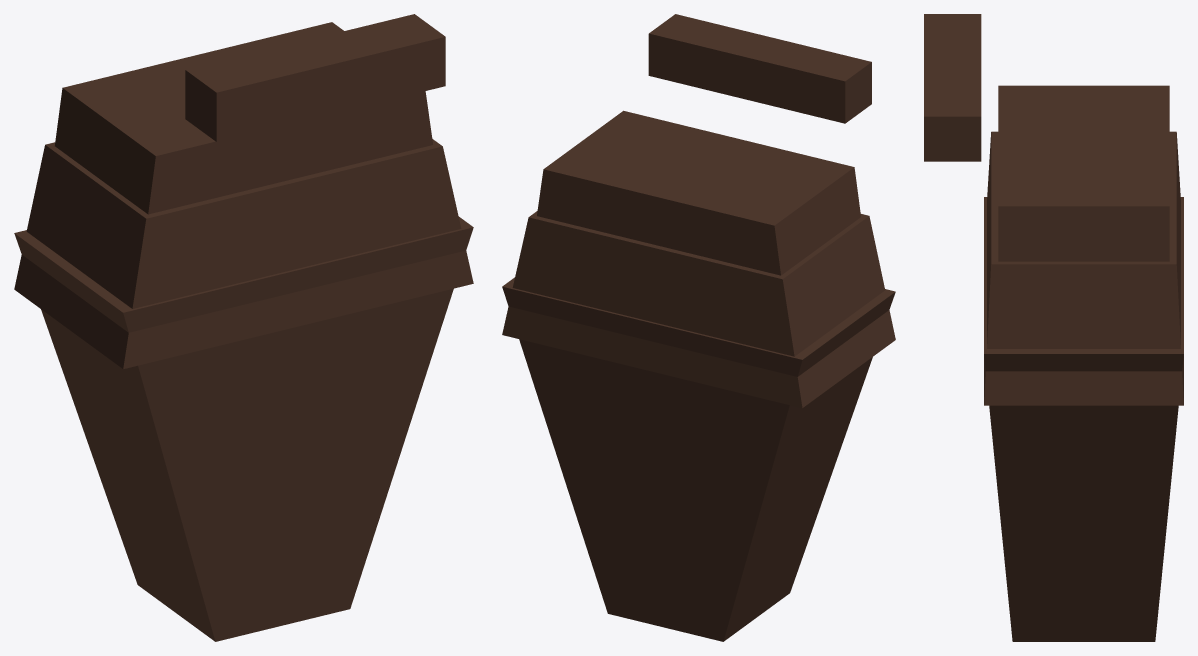
The model's file is NPC_Beard.obj.
3 views of the same model, side by side, from view 1: azimuth 30°, elevation 25°; view 2: azimuth 150°, elevation 25°; view 3: azimuth 270°, elevation 25° (orthographic). The views are drawn at different scales.
Visible parts, largest first — view 1: NPC_Beard_Long, NPC_Beard_Short; view 2: NPC_Beard_Long, NPC_Beard_Short; view 3: NPC_Beard_Long, NPC_Beard_Short.
Part boxes in pixels (x1,y1,x2,y2): NPC_Beard_Long: (14,139,473,641); NPC_Beard_Short: (55,14,445,214); NPC_Beard_Long: (502,211,895,641); NPC_Beard_Short: (537,14,871,275); NPC_Beard_Long: (984,131,1183,641); NPC_Beard_Short: (924,14,1169,261).
Bounding box in the file's own units: 0.26 × 0.4225 × 0.182.
